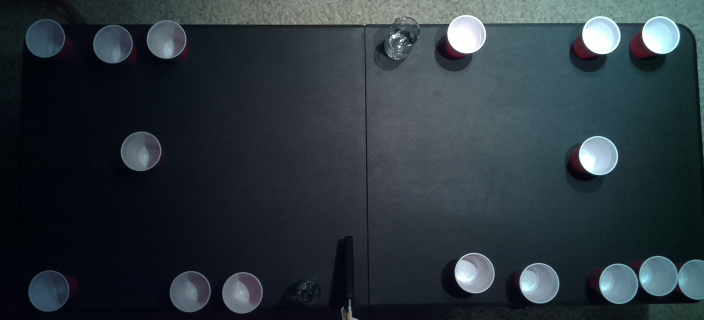active bp cup: (575, 135, 620, 177), (118, 130, 163, 172)
inactive bp cup: (163, 269, 212, 312), (220, 269, 265, 314), (25, 269, 70, 312), (89, 24, 134, 65), (442, 14, 488, 54), (517, 261, 560, 303), (451, 252, 495, 293), (145, 19, 188, 60), (579, 15, 622, 55), (597, 263, 639, 303), (24, 18, 65, 58), (638, 255, 677, 297), (640, 15, 681, 54), (677, 259, 703, 300)
